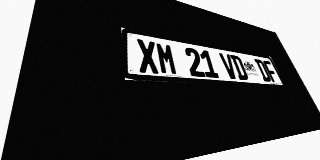1: (198, 49, 219, 78)
2: (184, 47, 206, 77)
D: (230, 55, 249, 80), (254, 59, 272, 82)
F: (262, 60, 280, 82)
M: (155, 42, 178, 75)
V: (219, 53, 239, 79)
X: (136, 39, 160, 74)
